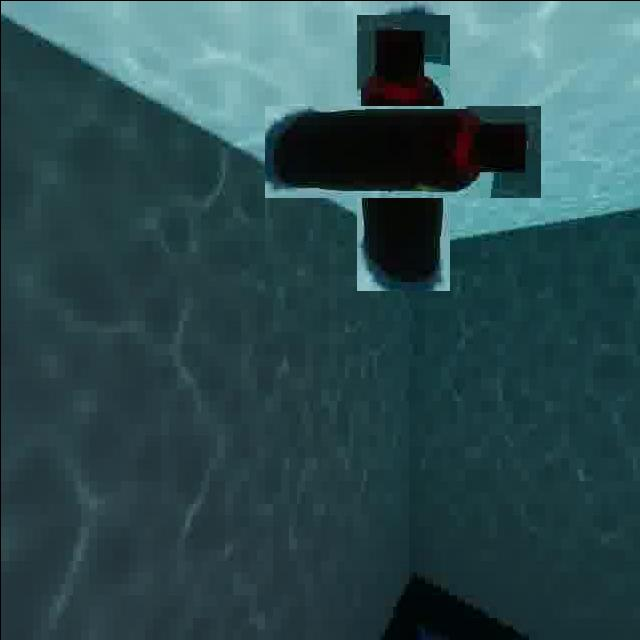Cylinder: (310, 60, 494, 244)
